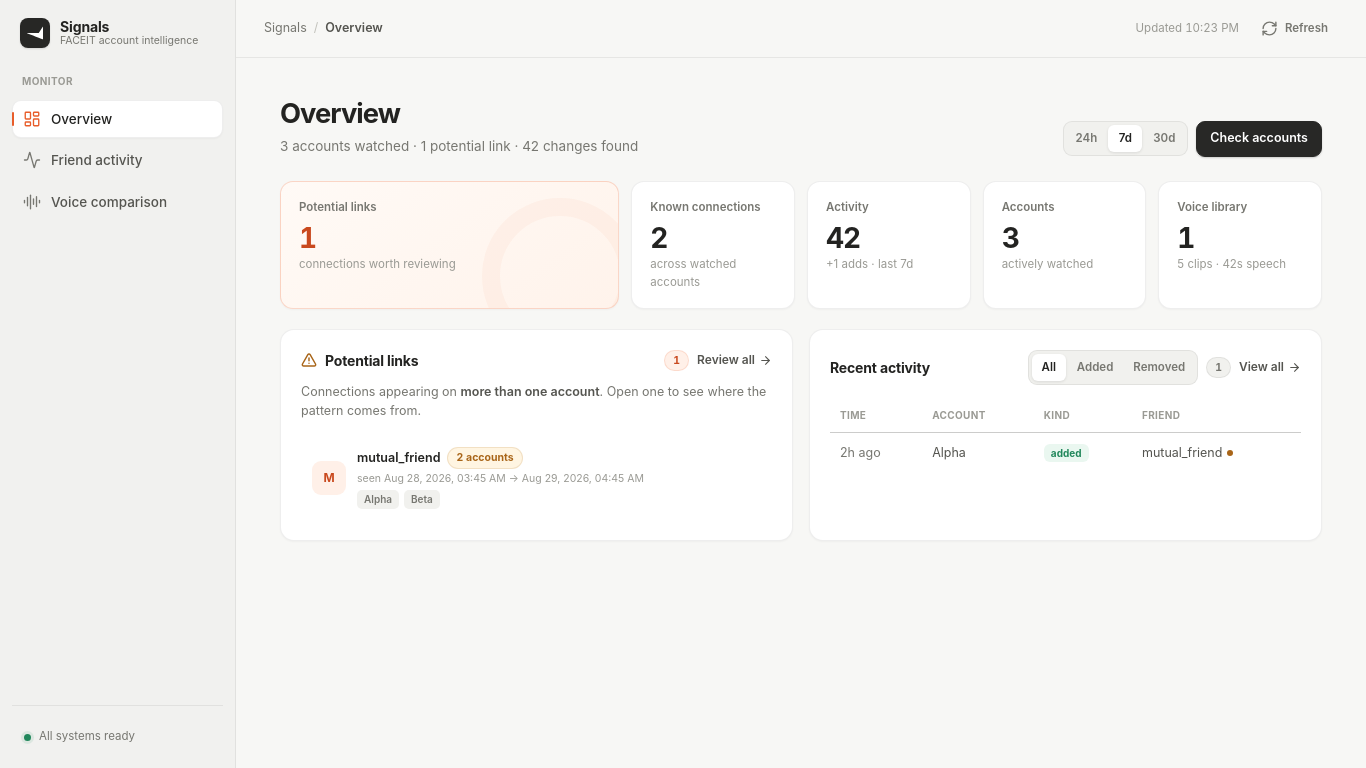
Scenario: application routing › navigates to the voice identity view
The image size is (1366, 768).
Expected: the header is shown, [236,0,1365,58]
Step 1. Click the link "Voice comparison" → (95, 202), box [23,193,167,211]
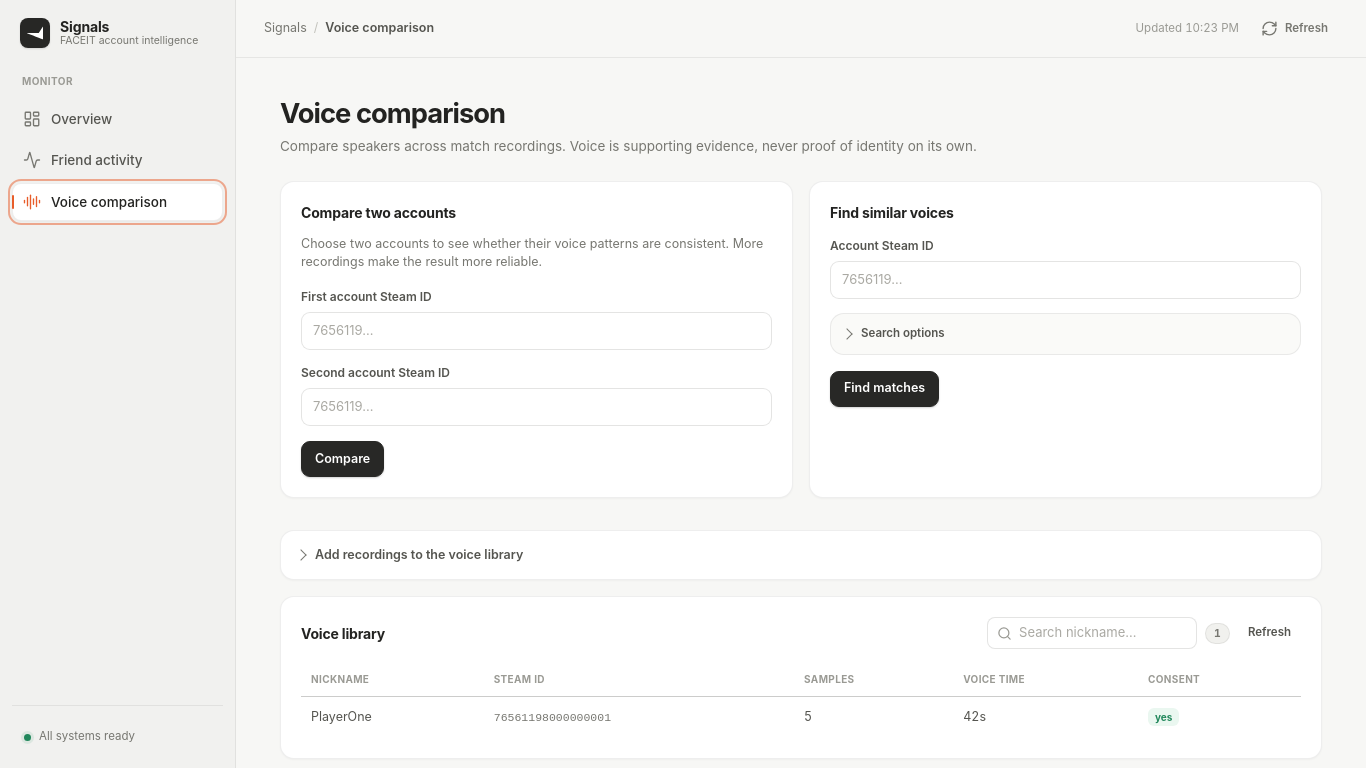
Now the heading "Voice comparison" is shown, box [280,97,505,130]
